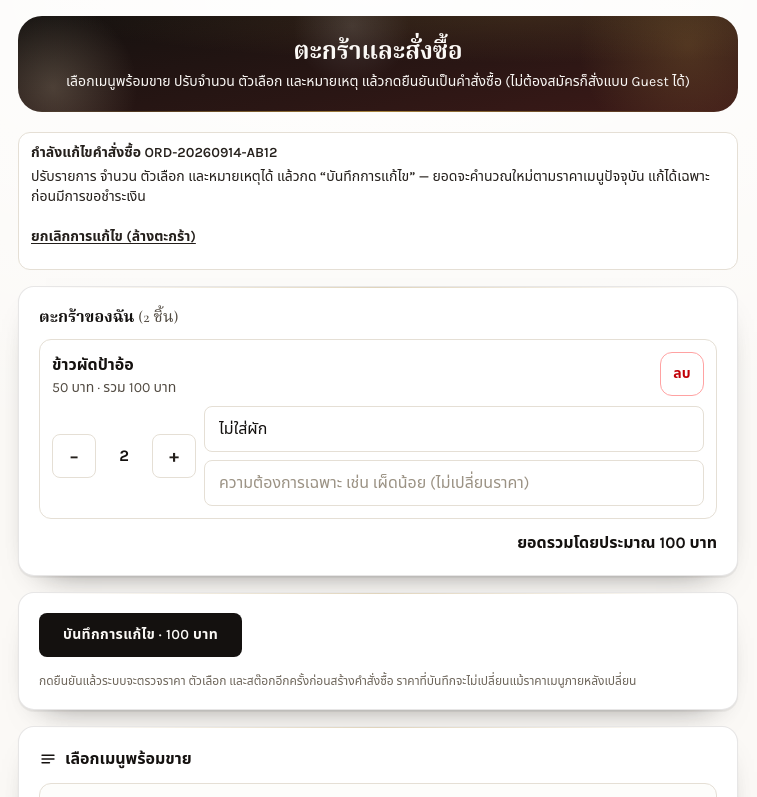
Test: Issue #42 หน้าตะกร้าในโหมดแก้ไข › แสดงแบนเนอร์ซ่อนวิธีรับบริการ/ฟอร์ม Guest และบันทึกด้วย PUT พร้อมเบอร์
The image size is (757, 797).
expect the text "กำลังแก้ไขคำสั่งซื้อ ORD-20260914-AB12" is shown: met, box x1=31 y1=144 x2=277 y2=161
Click the button "บันทึกการแก้ไข · 100 บาท". click: {"x": 141, "y": 635}
box: x1=39 y1=613 x2=242 y2=657
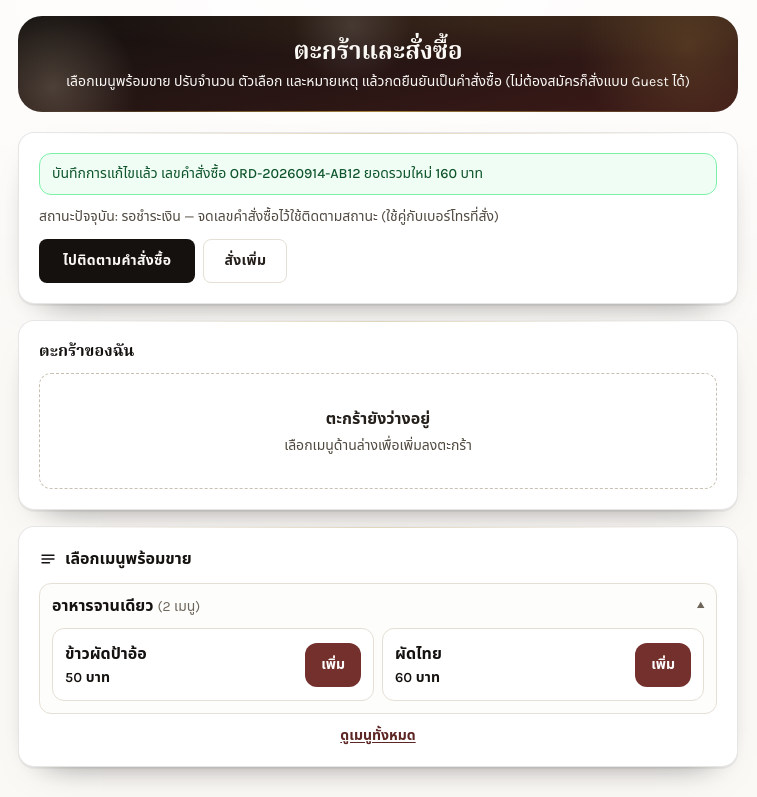
expect the text "บันทึกการแก้ไขแล้ว เลขคำสั่งซื้อ ORD-20260914-AB12 ยอดรวมใหม่ 160 บาท" is shown: met, box x1=39 y1=153 x2=717 y2=195
